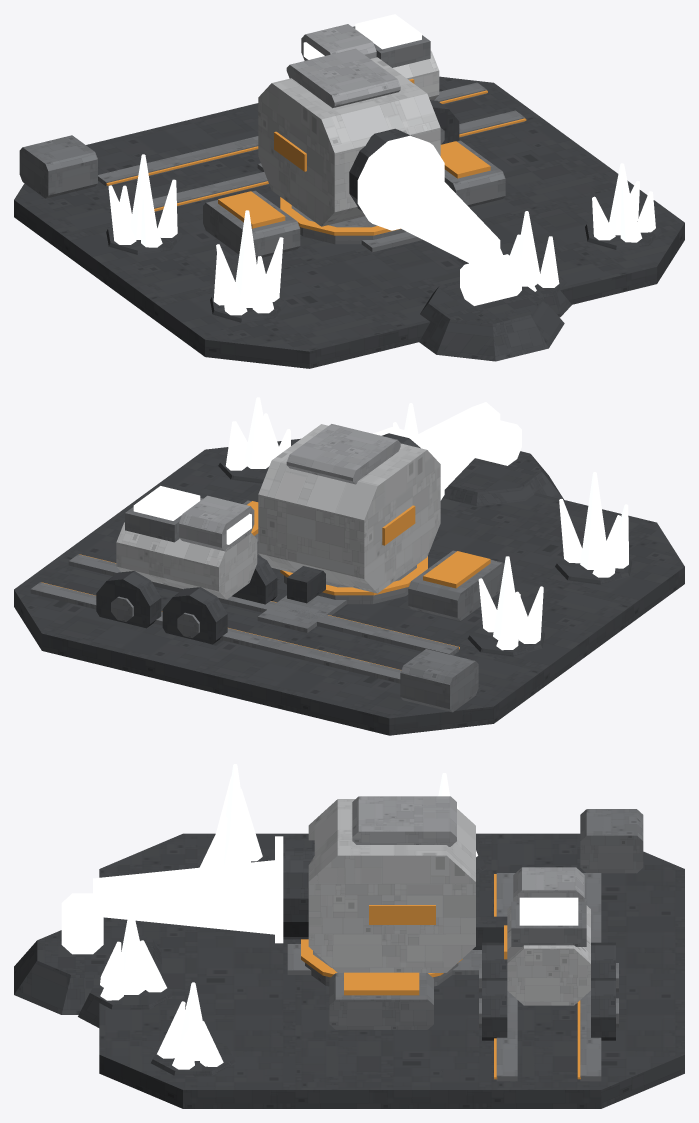
Rendered from rig_laser_lod1.glb.
3 renders of one model, top to bottom at view 1: azimuth 30°, elevation 25°; view 2: azimuth 150°, elevation 25°; view 3: azimuth 270°, elevation 25°, orthographic. The views are drawn at different scales.
Visible parts, largest first — view 1: rig_laser_base_body.001, rig_laser_emitter_body.001, rig_laser_base_glow.001, rig_laser_beam_glow.001, rig_laser_base_trim.001, rig_laser_cart_body.001, rig_laser_emitter_glow.001, rig_laser_cart_glow.001, rig_laser_emitter_trim.001; view 2: rig_laser_base_body.001, rig_laser_emitter_body.001, rig_laser_cart_body.001, rig_laser_base_glow.001, rig_laser_beam_glow.001, rig_laser_base_trim.001, rig_laser_cart_glow.001, rig_laser_emitter_trim.001, rig_laser_emitter_glow.001; view 3: rig_laser_base_body.001, rig_laser_emitter_body.001, rig_laser_cart_body.001, rig_laser_beam_glow.001, rig_laser_base_glow.001, rig_laser_base_trim.001, rig_laser_cart_glow.001, rig_laser_emitter_trim.001, rig_laser_emitter_glow.001.
Part boxes in pixels (x1,y1,x2,y2): rig_laser_base_body.001: (14,76,684,368); rig_laser_emitter_body.001: (258,48,440,226); rig_laser_base_glow.001: (108,154,655,315); rig_laser_beam_glow.001: (374,157,521,305); rig_laser_base_trim.001: (106,90,526,235); rig_laser_cart_body.001: (301,24,459,144); rig_laser_emitter_glow.001: (357,135,444,230); rig_laser_cart_glow.001: (303,14,421,59); rig_laser_emitter_trim.001: (274,131,306,171); rig_laser_base_body.001: (14,438,684,735); rig_laser_emitter_body.001: (258,424,440,603); rig_laser_cart_body.001: (96,495,277,644); rig_laser_base_glow.001: (225,397,628,650); rig_laser_beam_glow.001: (417,402,521,489); rig_laser_base_trim.001: (41,501,490,669); rig_laser_cart_glow.001: (133,486,251,544); rig_laser_emitter_trim.001: (382,505,415,545); rig_laser_emitter_glow.001: (373,427,444,500); rig_laser_base_body.001: (14,809,684,1108); rig_laser_emitter_body.001: (283,796,507,972); rig_laser_cart_body.001: (479,867,618,1040); rig_laser_beam_glow.001: (61,860,274,954); rig_laser_base_glow.001: (100,764,477,1069); rig_laser_base_trim.001: (301,874,580,1079); rig_laser_cart_glow.001: (519,897,578,925); rig_laser_emitter_trim.001: (369,905,435,924); rig_laser_emitter_glow.001: (275,836,283,943).
Bounding box in the file's own units: 2.9 × 0.88 × 3.21.
3 materials, 1 textured.
